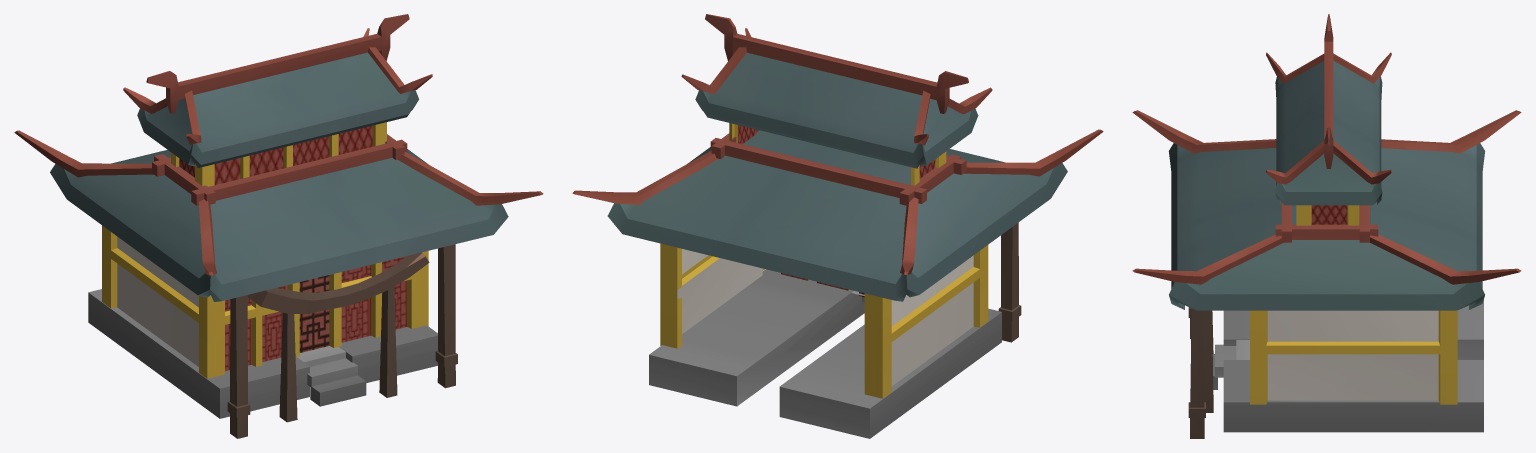
The model's file is just_house_2.fbx.
3 views of the same model, side by side, from view 1: azimuth 30°, elevation 25°; view 2: azimuth 150°, elevation 25°; view 3: azimuth 270°, elevation 25° (orthographic).
Parts seen in each view (by area): view 1: just_house_2; view 2: just_house_2; view 3: just_house_2.
Part boxes in pixels (bbox=[...]): just_house_2: bbox=[14, 14, 543, 438]; just_house_2: bbox=[572, 14, 1103, 438]; just_house_2: bbox=[1132, 14, 1521, 438].
Bounding box in the file's own units: 7.73 × 6.97 × 7.9.
